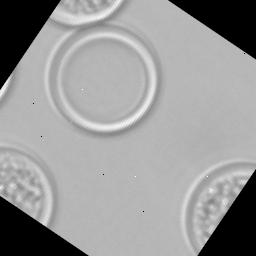picoshell: (44, 25, 157, 135), (183, 160, 255, 253), (0, 144, 54, 227), (49, 0, 120, 25), (0, 73, 11, 96)
